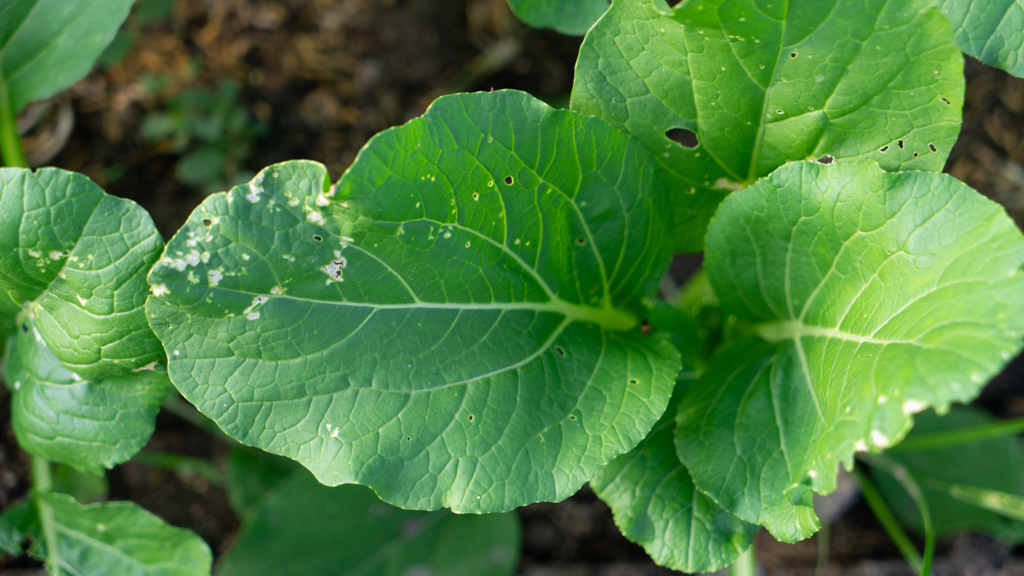Canker: (150, 174, 361, 333)
